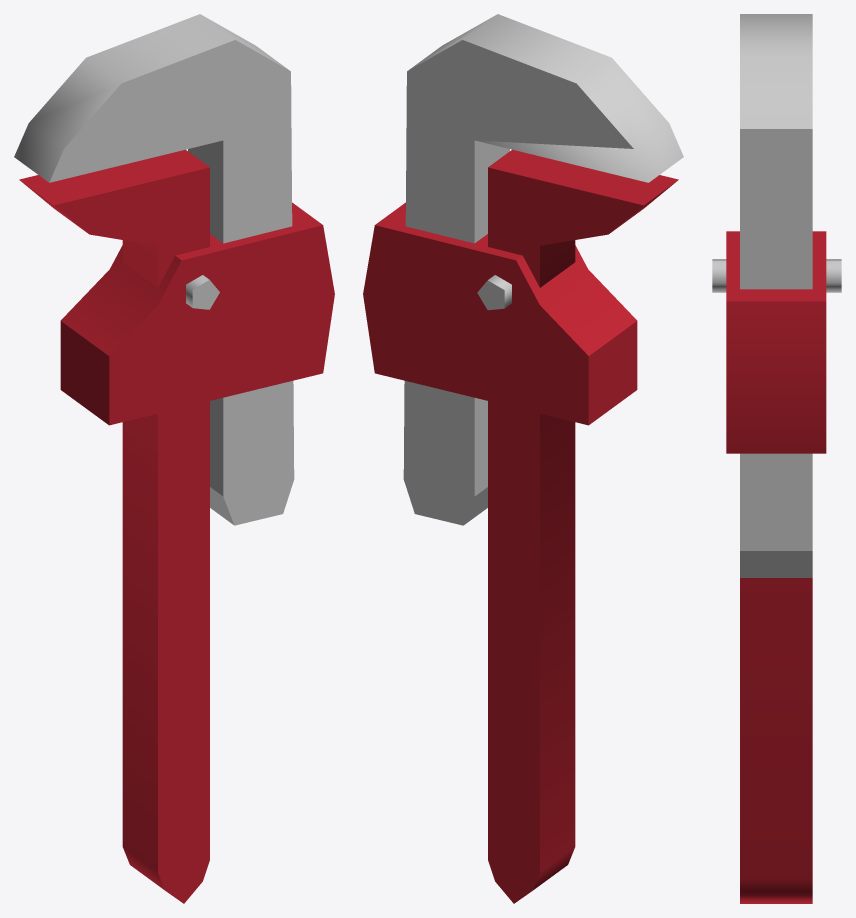
Rendered from wranch_mesh.FBX.
The picture shows the model from 3 angles, left to right: view 1: azimuth 30°, elevation 25°; view 2: azimuth 150°, elevation 25°; view 3: azimuth 270°, elevation 25°; orthographic projection. The views are drawn at different scales.
Parts seen in each view (by area): view 1: wranch_mesh; view 2: wranch_mesh; view 3: wranch_mesh.
Boxes of the visible parts, bbox=[...] form: wranch_mesh: bbox=[14, 14, 334, 903]; wranch_mesh: bbox=[363, 14, 683, 903]; wranch_mesh: bbox=[712, 14, 841, 903].
Size of the model in its own units: 25.18 by 73.43 by 9.83.
